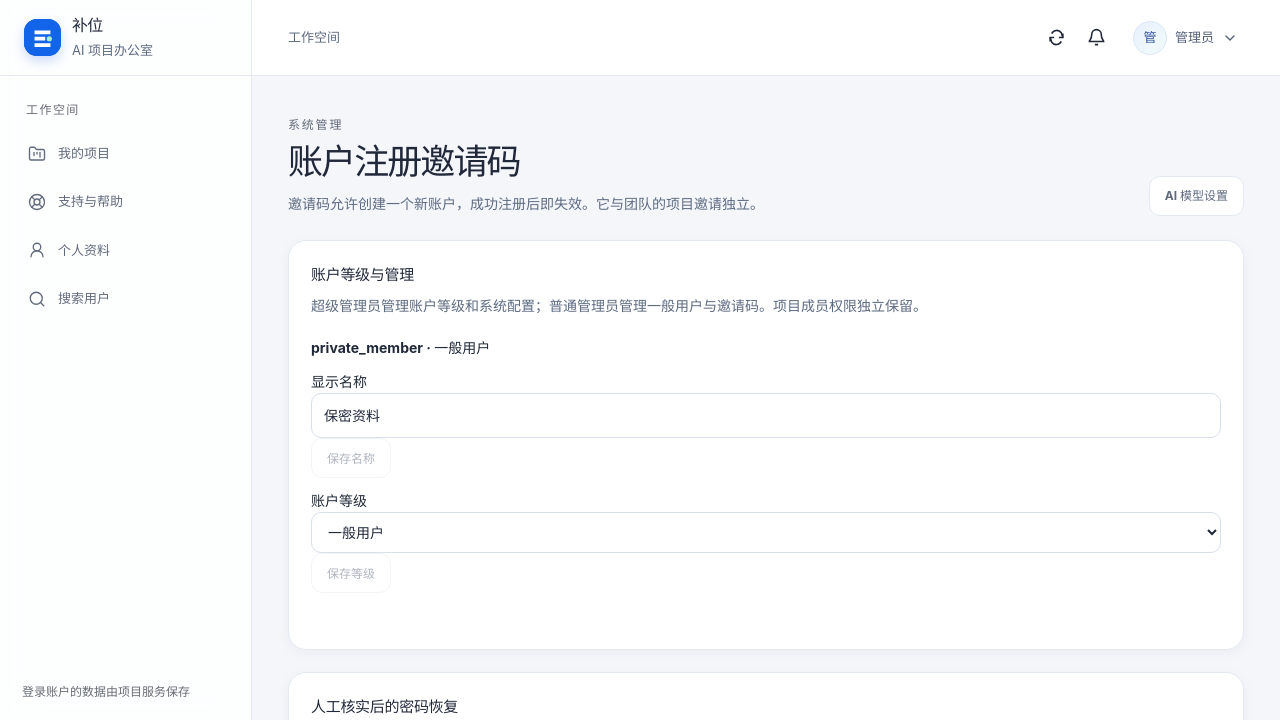
Test case: purges account and invitation caches and hides privileged controls after denied mutation
Select "普通管理员" in the dropdown named "private_member 账户等级" at (766, 533), box 311,512 -> 1221,553
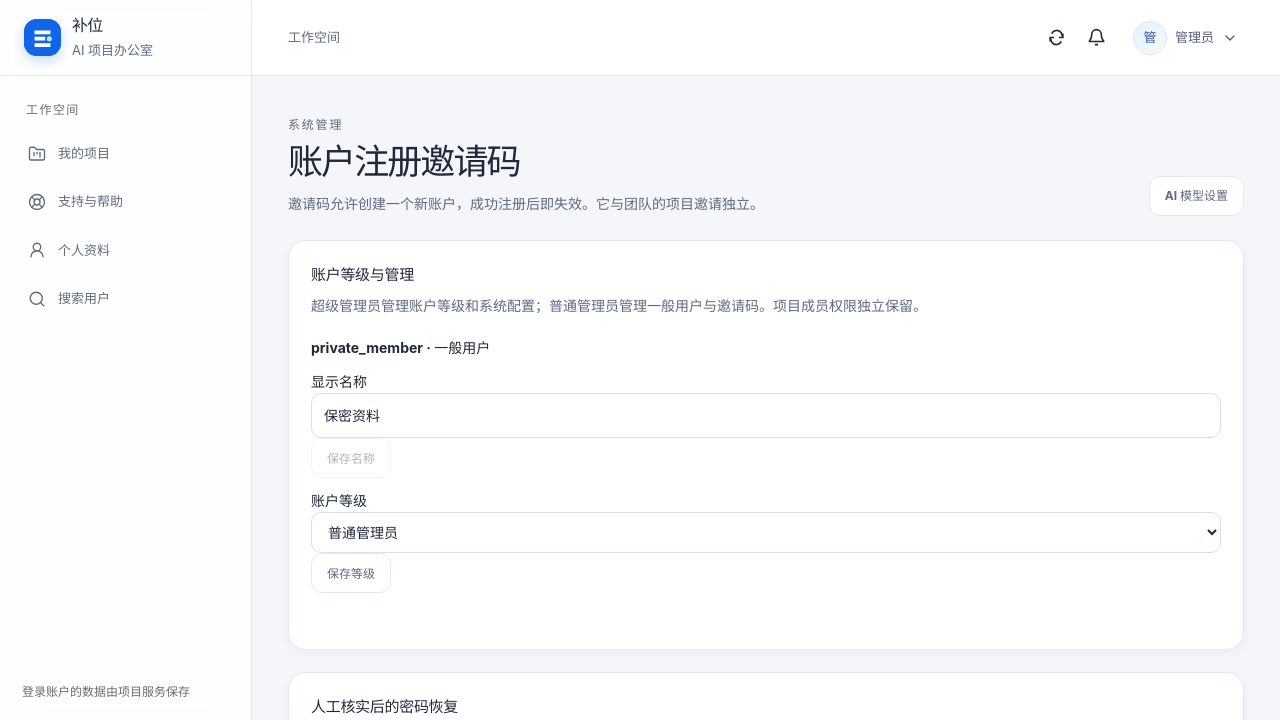
Click the button "保存等级" at (351, 573), box 311,553 -> 391,593
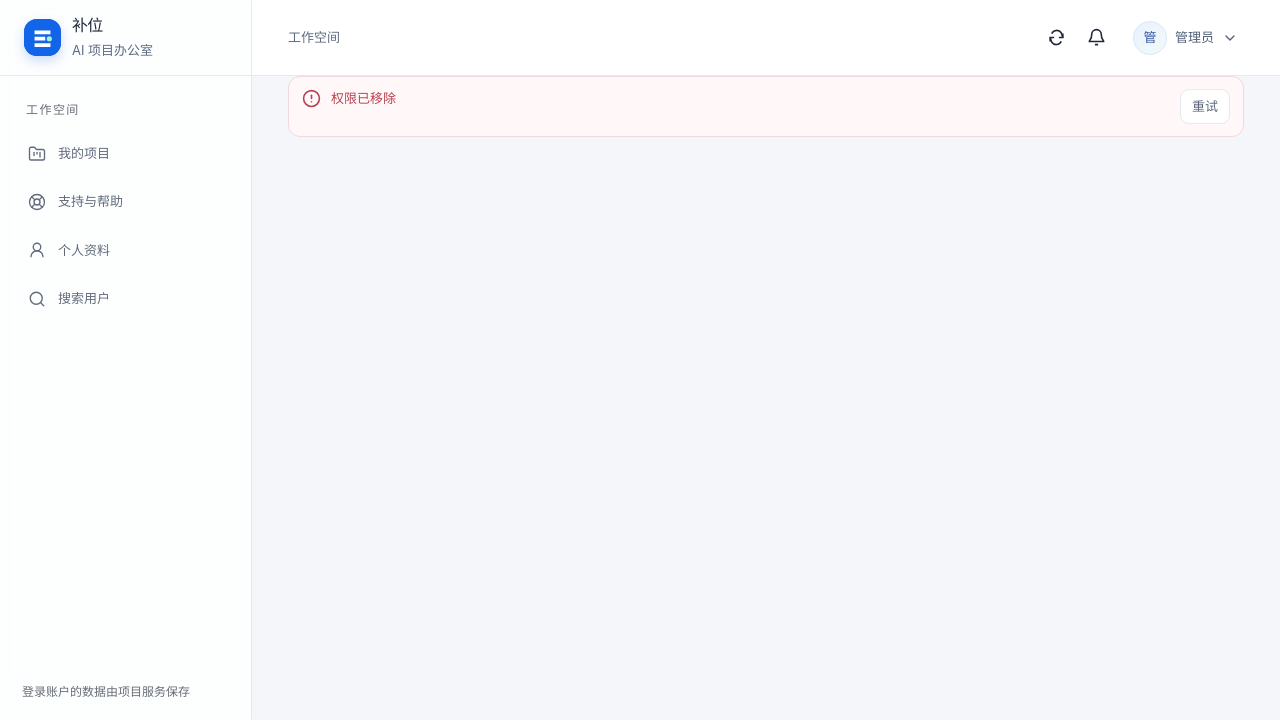
expect the message "权限已移除 重试" is shown: met, box 288,76 -> 1244,137
